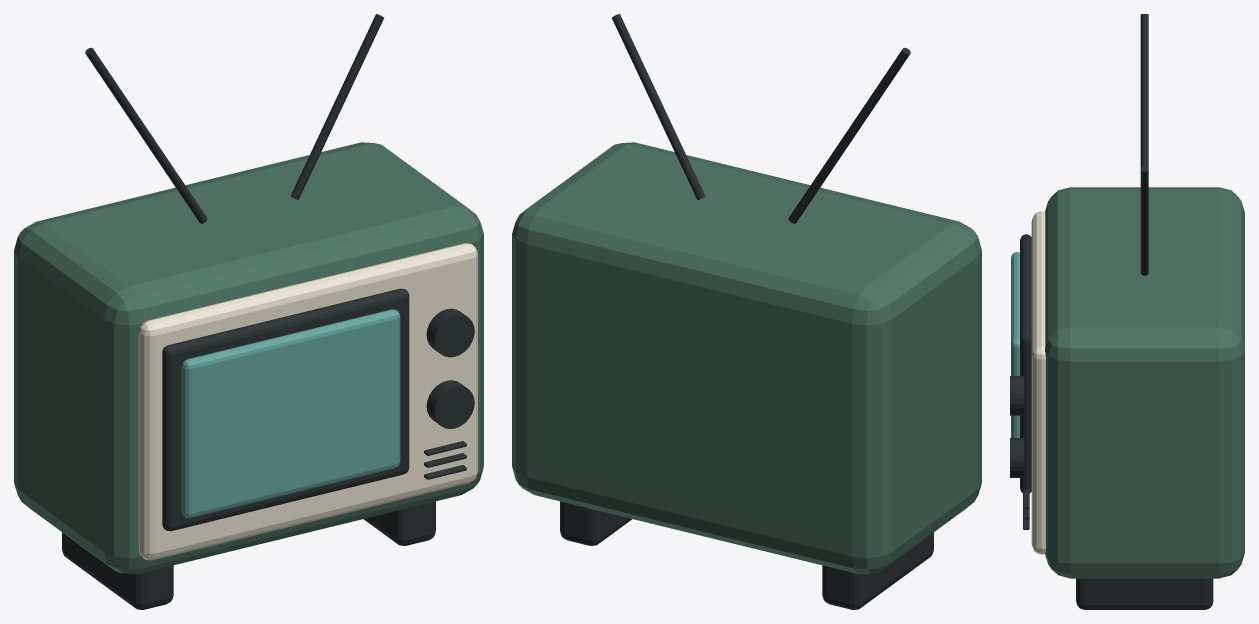
File: retro-tv-v03.glb
The picture shows the model from 3 angles, left to right: view 1: azimuth 30°, elevation 25°; view 2: azimuth 150°, elevation 25°; view 3: azimuth 270°, elevation 25°; orthographic projection. The views are drawn at different scales.
Parts seen in each view (by area): view 1: TV cabinet, CRT screen, TV front, CRT bezel, TV foot, Antenna L, TV foot.001, Antenna R, Tuning dial, Tuning dial.001; view 2: TV cabinet, TV foot, Antenna L, TV foot.001, Antenna R; view 3: TV cabinet, TV front, TV foot.001, CRT bezel, Antenna L, CRT screen, Antenna R, Tuning dial, Tuning dial.001.
Boxes of the visible parts, left/top/right/bottom form: TV cabinet: left=14, top=142, right=483, bottom=574; CRT screen: left=181, top=309, right=400, bottom=518; TV front: left=138, top=243, right=477, bottom=560; CRT bezel: left=162, top=288, right=409, bottom=531; TV foot: left=62, top=532, right=173, bottom=609; Antenna L: left=85, top=47, right=207, bottom=223; TV foot.001: left=363, top=501, right=435, bottom=545; Antenna R: left=290, top=14, right=383, bottom=199; Tuning dial: left=426, top=308, right=474, bottom=357; Tuning dial.001: left=426, top=380, right=474, bottom=428; TV cabinet: left=512, top=142, right=981, bottom=574; TV foot: left=822, top=532, right=933, bottom=609; Antenna L: left=788, top=47, right=910, bottom=223; TV foot.001: left=560, top=501, right=632, bottom=545; Antenna R: left=612, top=14, right=705, bottom=199; TV cabinet: left=1045, top=187, right=1244, bottom=578; TV front: left=1031, top=211, right=1045, bottom=554; TV foot.001: left=1076, top=578, right=1213, bottom=609; CRT bezel: left=1020, top=234, right=1031, bottom=492; Antenna L: left=1140, top=14, right=1148, bottom=168; CRT screen: left=1011, top=252, right=1019, bottom=437; Antenna R: left=1140, top=165, right=1148, bottom=275; Tuning dial: left=1010, top=376, right=1024, bottom=415; Tuning dial.001: left=1010, top=438, right=1024, bottom=477.
Size of the model in its own units: 0.66 by 0.9036 by 0.4105.
